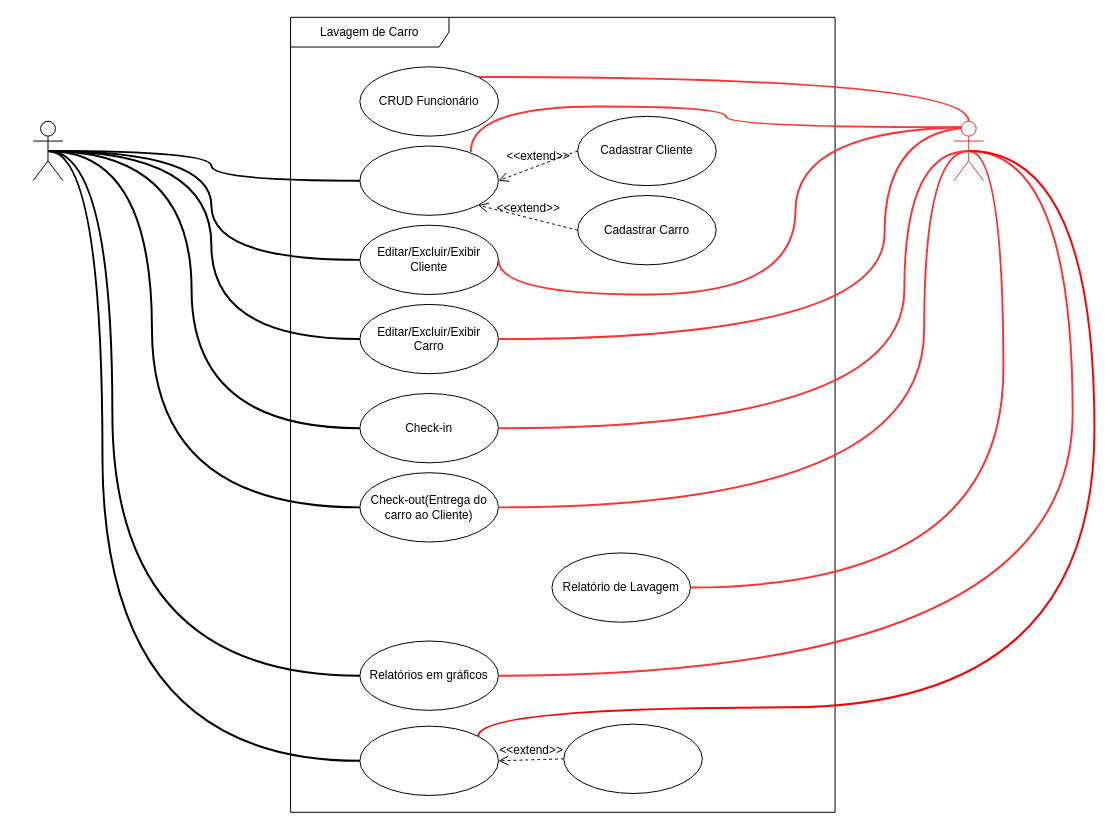
Image size: 1113x830. Some labels were removed from this diagram. Each missing label, with the centre of its shape:
Agendar Lavagem: [428,180]
Alterar Senha: [632,758]
Funcionário: [47,150]
Gerente: [968,150]
Login: [428,760]
